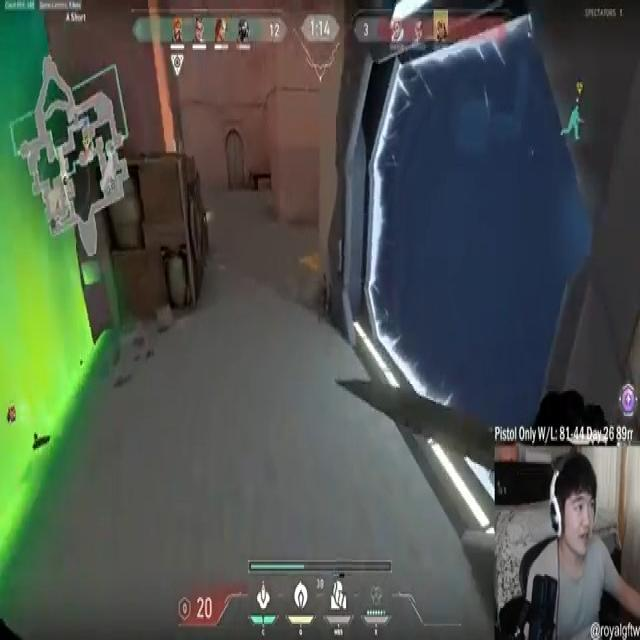ally behind wall: (559, 102, 583, 144)
